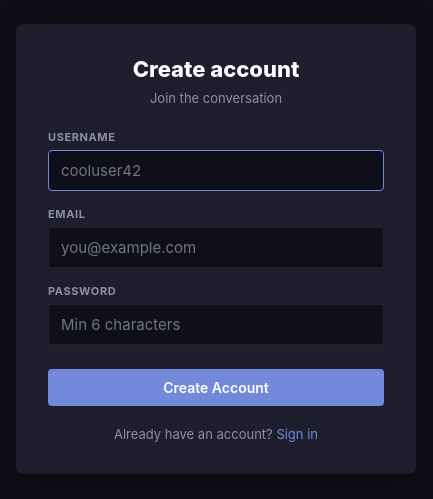
Test: Auth pages › register shows error for short password
Type "alice" into the field labelled "Username". click: (216,170)
box: top-left (48, 150), bottom-right (384, 191)
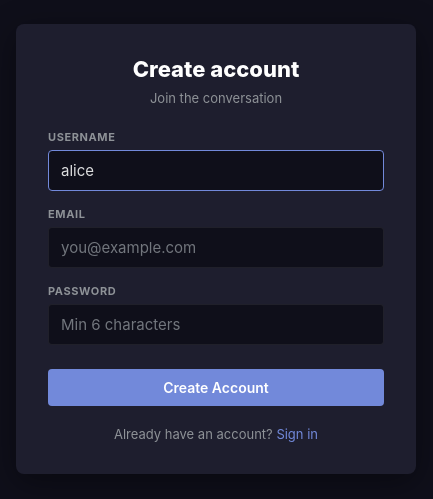
Type "a@a.com" into the field labelled "Email". click: (216,248)
box: top-left (48, 227), bottom-right (384, 268)
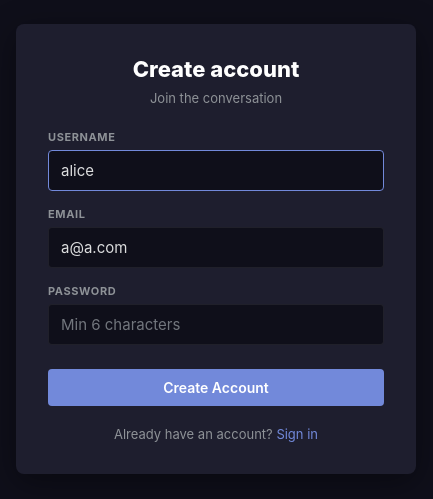
Type "123" into the password field labelled "Password". click: (216,324)
box: top-left (48, 304), bottom-right (384, 345)
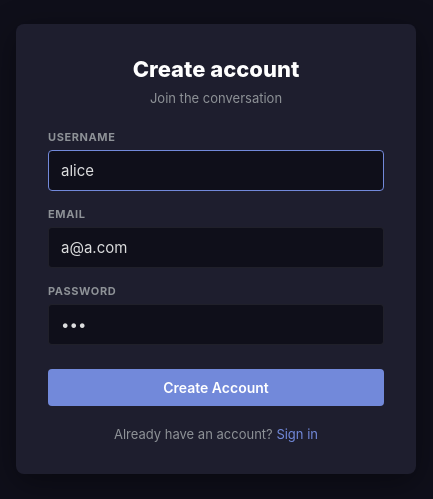
Submit the form "Username Email Password Create Account", box top-left (48, 130), bottom-right (384, 406)
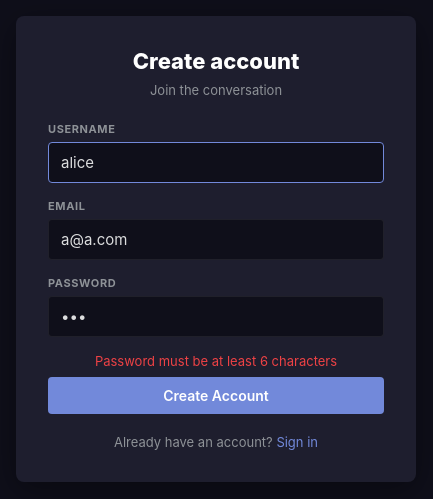
Expected: the text "Password must be at least 6 characters" is shown, top-left (95, 353), bottom-right (337, 369)
